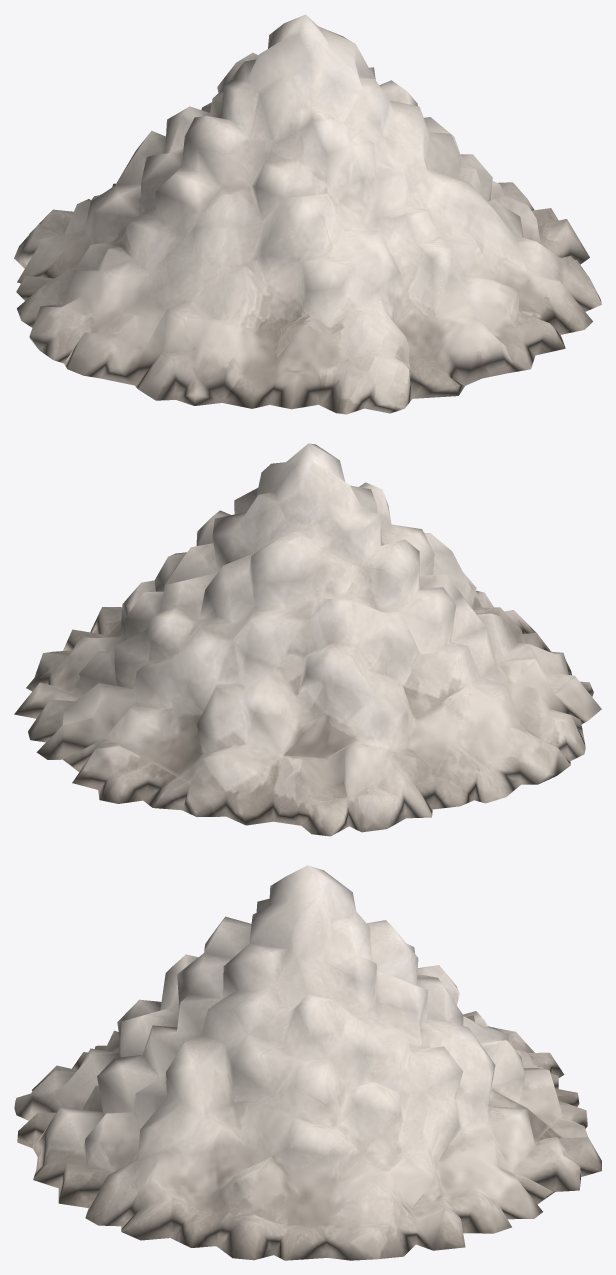
File: salt_heap.glb
The picture shows the model from 3 angles, top to bottom: view 1: azimuth 30°, elevation 25°; view 2: azimuth 150°, elevation 25°; view 3: azimuth 270°, elevation 25°; orthographic projection. The views are drawn at different scales.
Visible parts, largest first — view 1: kit-salt-heap-1; view 2: kit-salt-heap-1; view 3: kit-salt-heap-1.
Boxes of the visible parts, x1,y1,x2,y2 form: kit-salt-heap-1: [14, 14, 601, 414]; kit-salt-heap-1: [14, 443, 601, 836]; kit-salt-heap-1: [14, 865, 601, 1260].
Bounding box in the file's own units: 2.9 × 1.49 × 2.9.
1 material, 1 textured.
